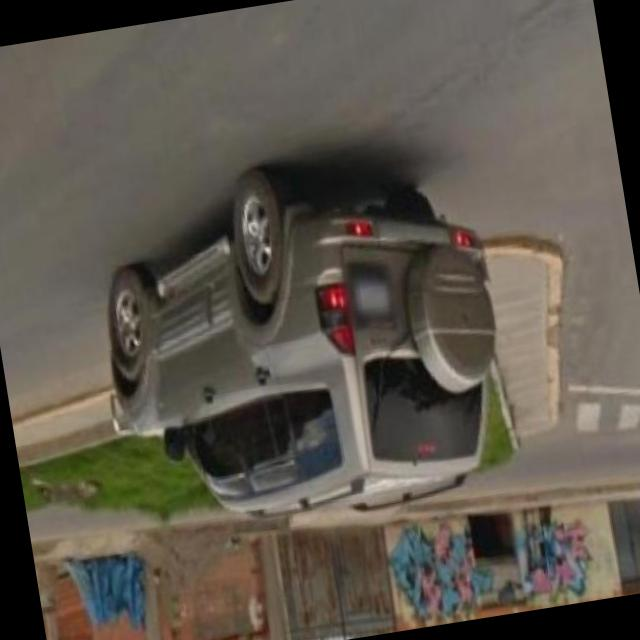car: (75, 157, 533, 567)
